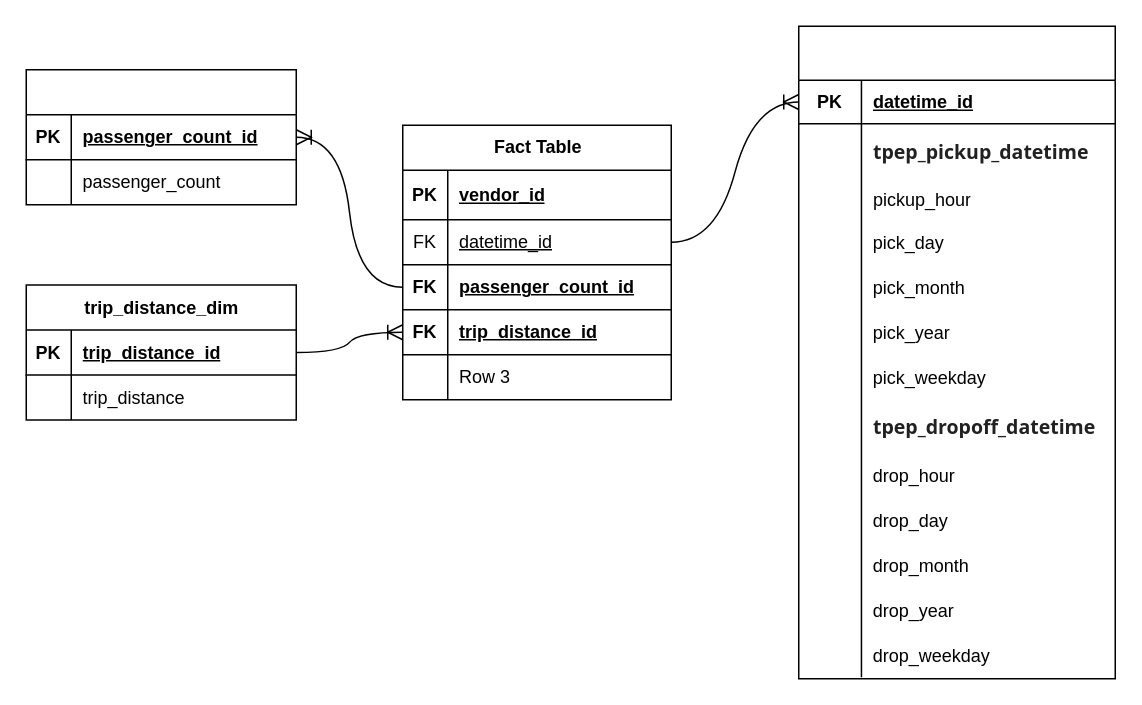
The diagram is 1142 pixels wide and 705 high, and some of its shapes have lost their labels. The box of each missing label's shape, as (x1, y1, x2, y2) in pixels:
datetime_dim: (797, 25, 1115, 679)
passenger_count_dim: (25, 68, 296, 205)
